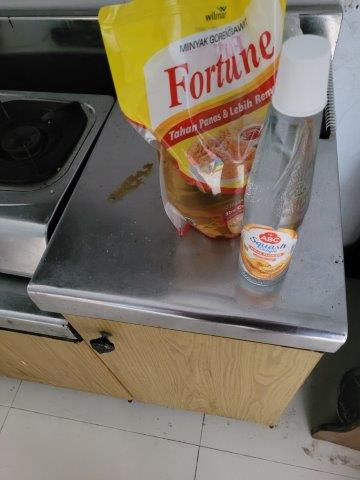botolkaca: (241, 34, 331, 289)
